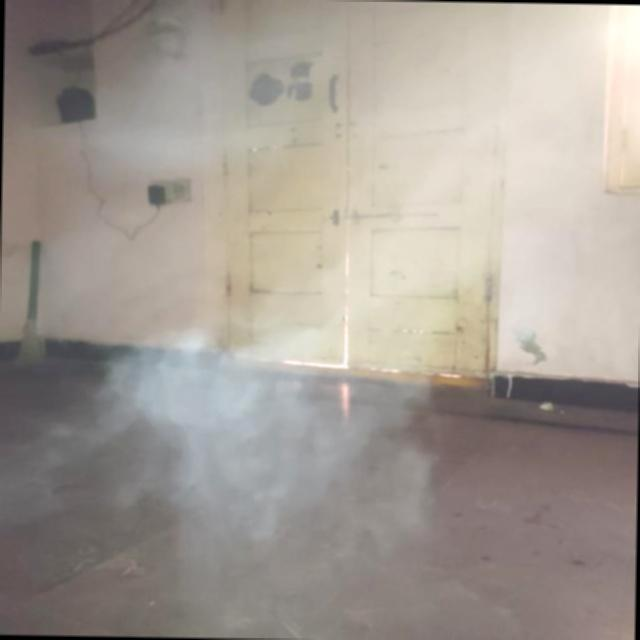smoke: (106, 279, 380, 515)
